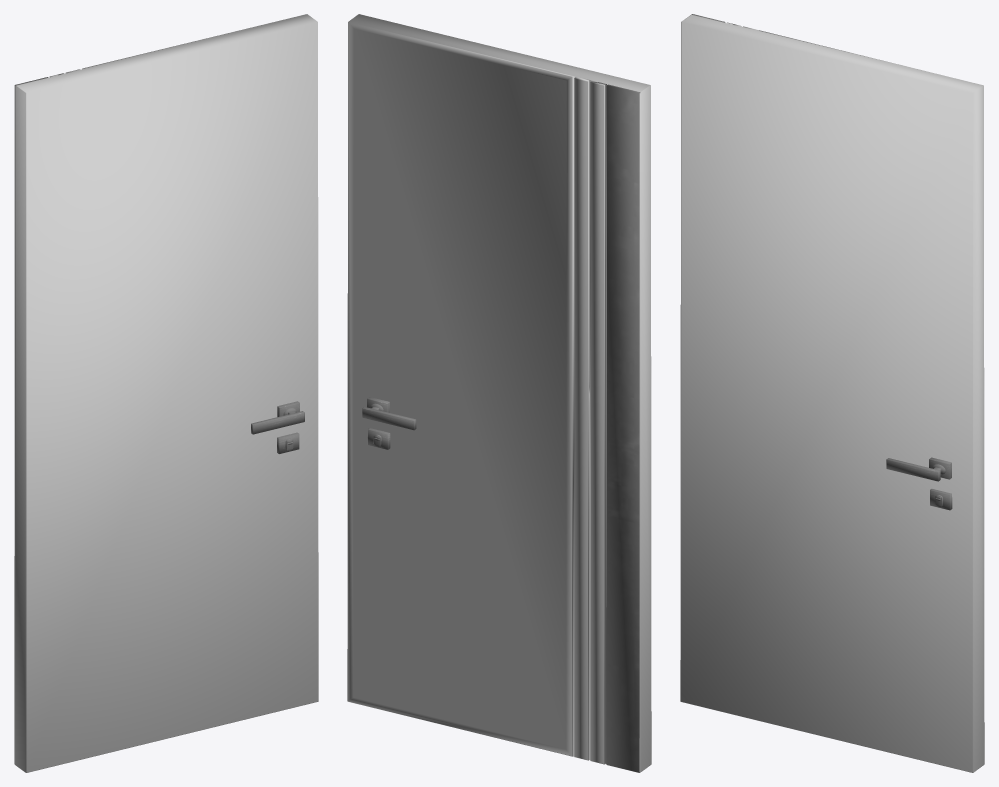
File: TeacherOfficeDoor_Clean.fbx
3 renders of one model, left to right at view 1: azimuth 30°, elevation 25°; view 2: azimuth 150°, elevation 25°; view 3: azimuth 330°, elevation 25°, orthographic.
Visible parts, largest first — view 1: DOOR__3_.002; view 2: DOOR__3_.002; view 3: DOOR__3_.002.
Boxes of the visible parts, bbox=[...] form: DOOR__3_.002: bbox=[14, 14, 318, 772]; DOOR__3_.002: bbox=[347, 14, 651, 772]; DOOR__3_.002: bbox=[680, 14, 984, 772].
Bounding box in the file's own units: 113 × 251 × 21.93.
